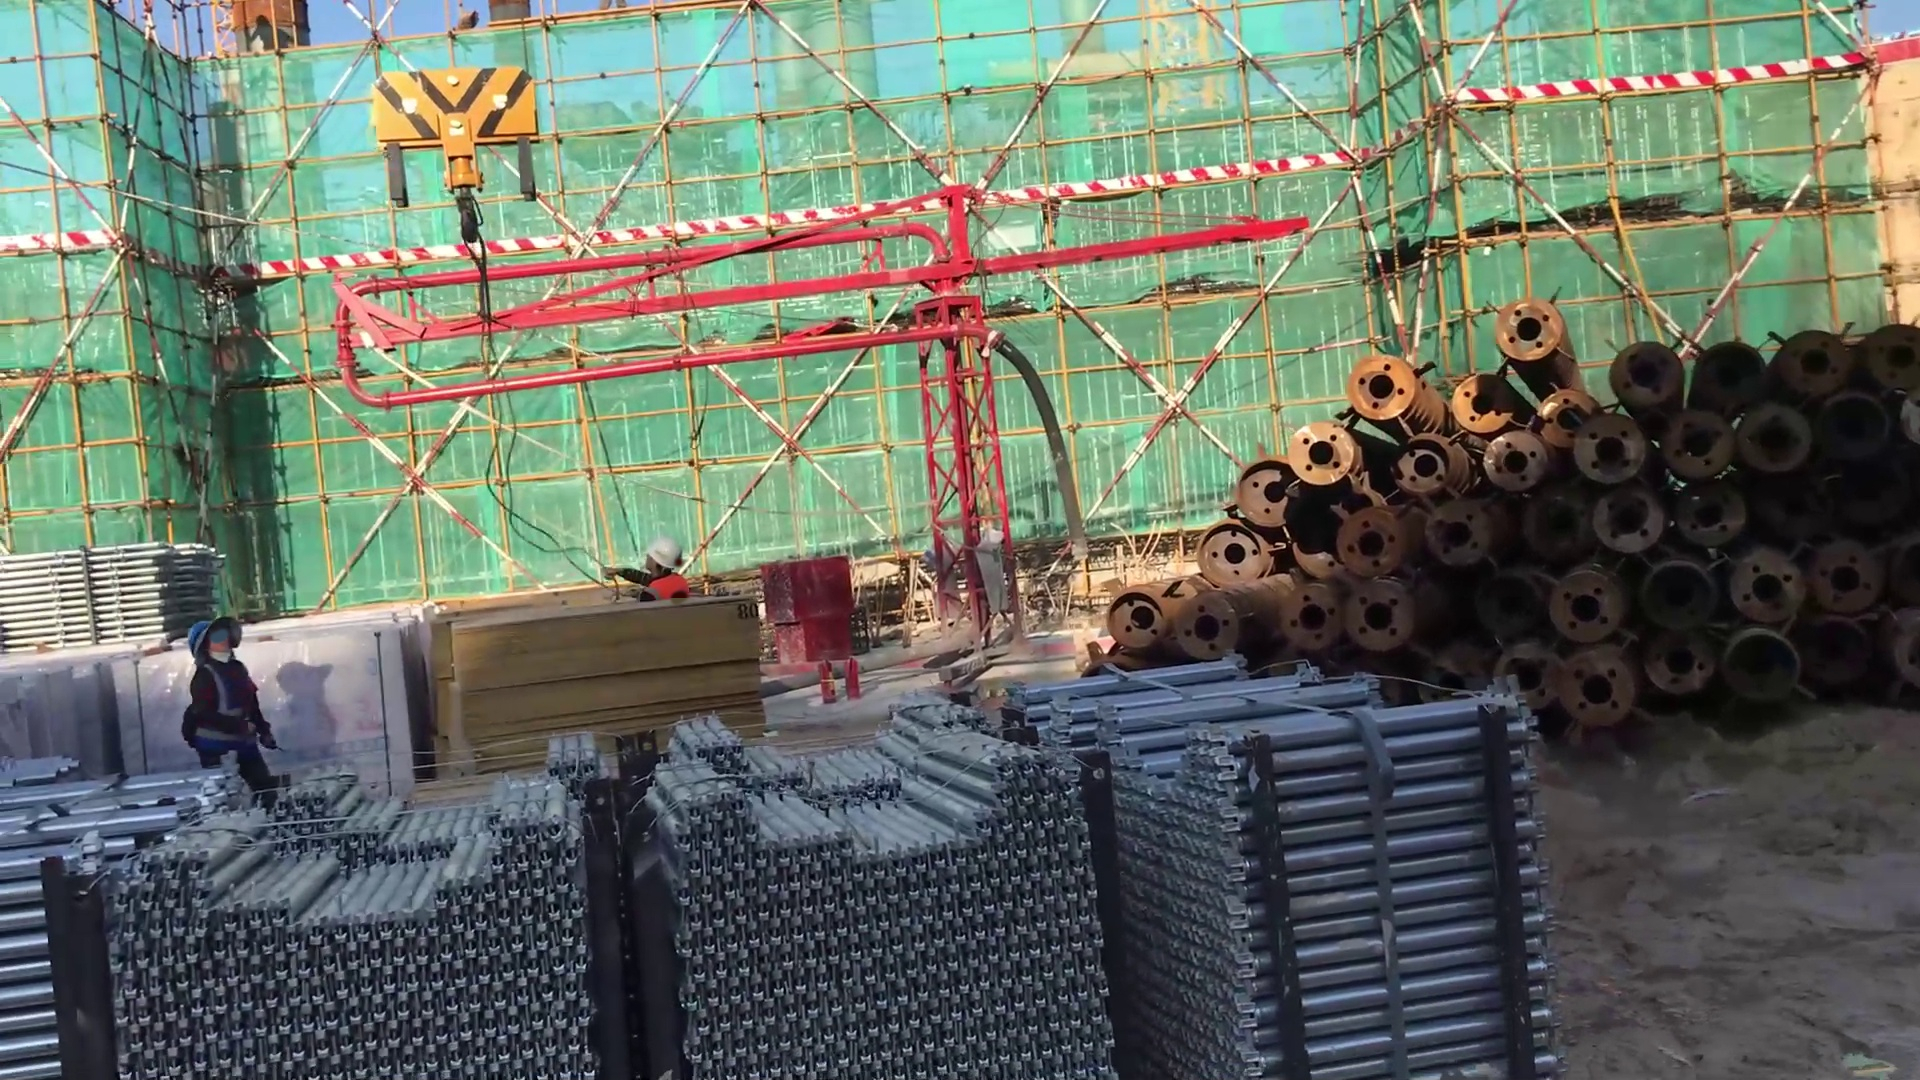board: (433, 601, 769, 763)
helmet: (186, 606, 250, 680), (641, 531, 698, 583)
hook: (370, 69, 555, 264)
person: (182, 612, 278, 801), (595, 534, 695, 608)
scaffold: (966, 642, 1571, 1080), (631, 676, 1120, 1080), (119, 701, 602, 1080), (1, 746, 241, 1077), (1, 527, 230, 670)
vest: (185, 657, 265, 763), (633, 574, 699, 604)
